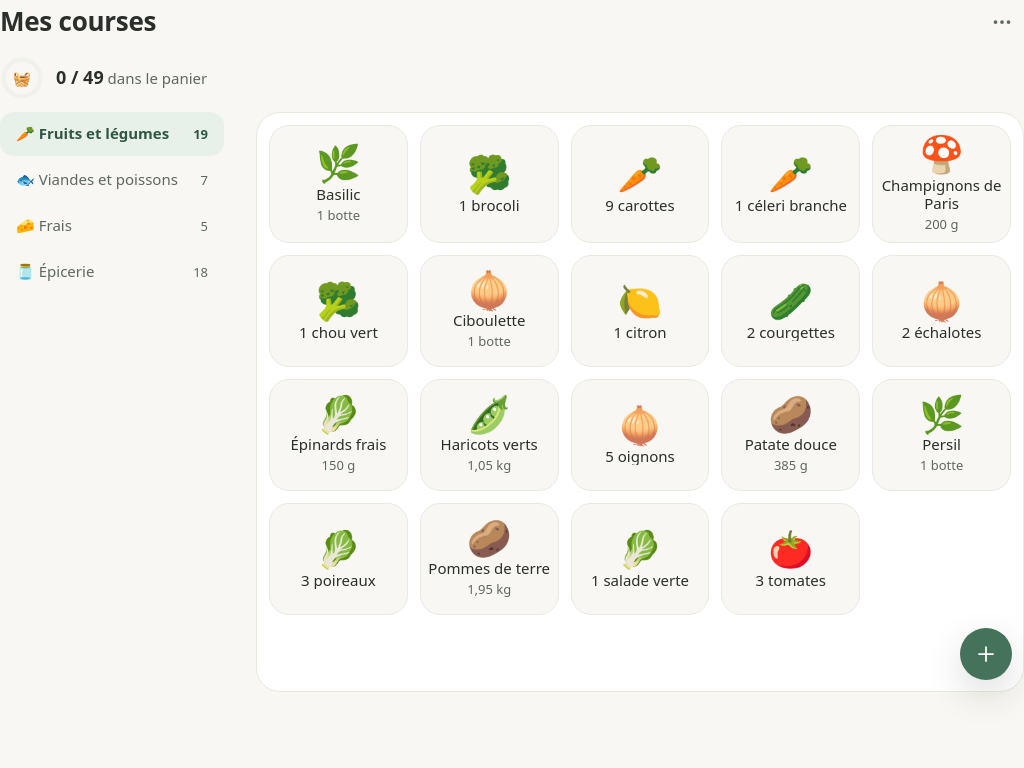
Test case: <ShoppingPage /> › partage impossible : message d’erreur
What coordinates should you click on to do the following:
click the button named "Plus d’options"
I would click on:
 (1002, 22)
Its box is [980,0,1023,44].
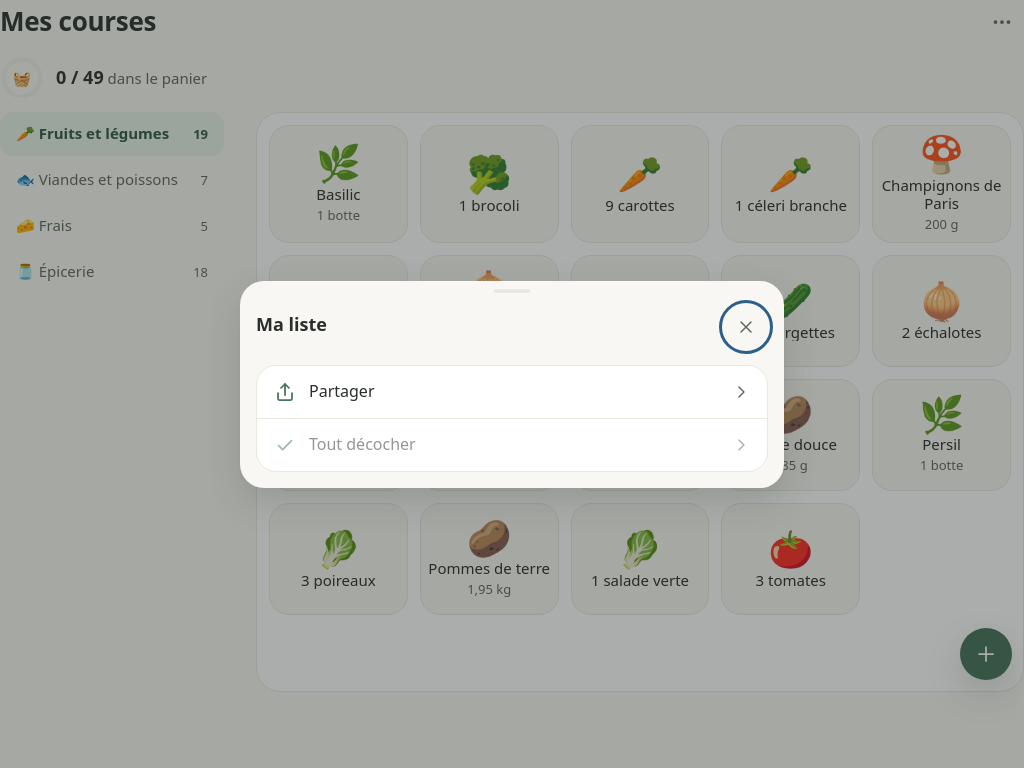
What coordinates should you click on to do the following:
click the button "Partager"
I would click on:
 (342, 391)
Its box is [257,366,767,418].
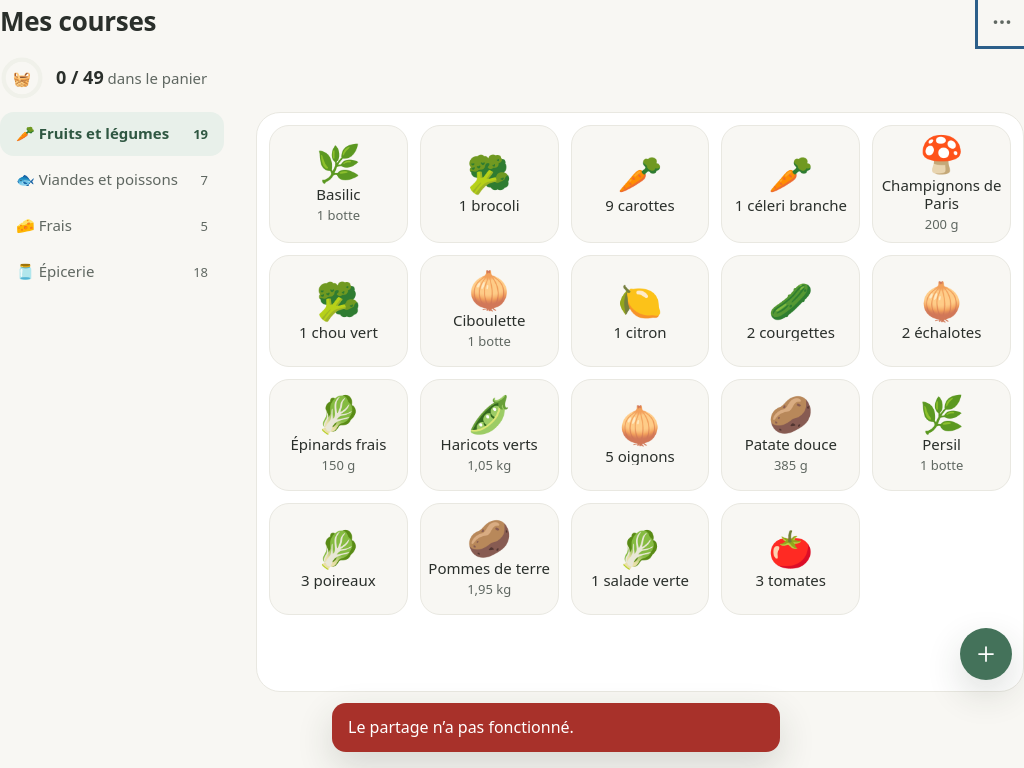
Result: the text "Le partage n’a pas fonctionné." is shown at [332,703,780,752]
